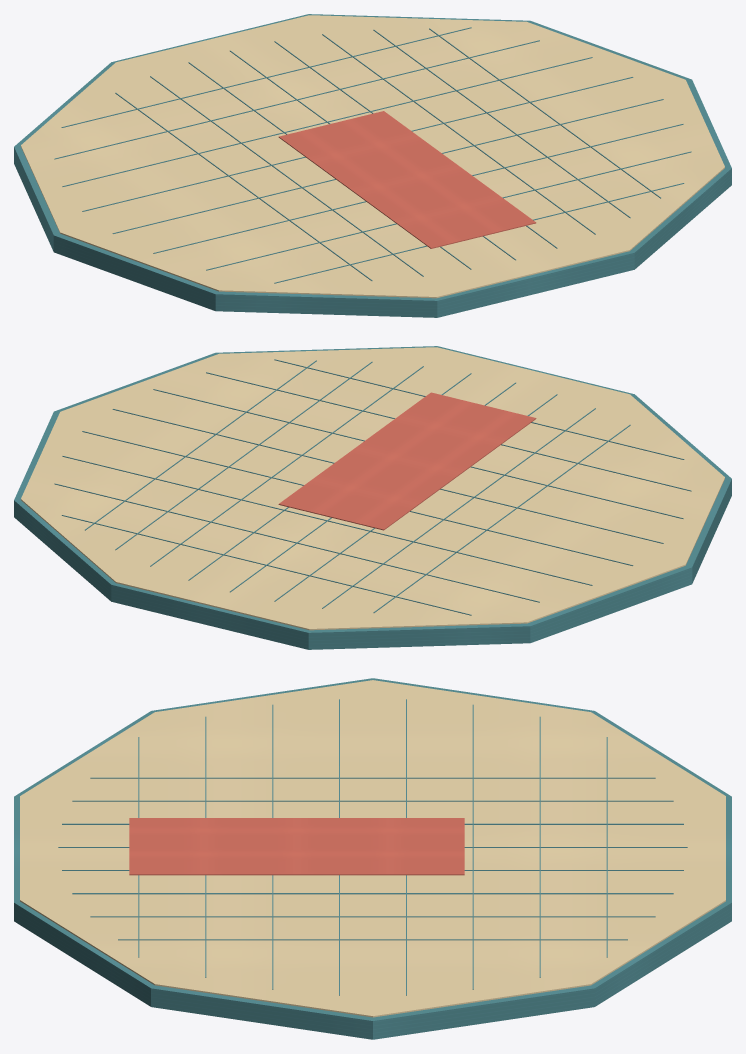
File: atlas100-s073-a07.lod1.glb
3 views of the same model, one above another, from view 1: azimuth 30°, elevation 25°; view 2: azimuth 150°, elevation 25°; view 3: azimuth 270°, elevation 25° (orthographic). The views are drawn at different scales.
Visible parts, largest first — view 1: atlas100-s073-a07:part-001, atlas100-s073-a07:part-000, atlas100-s073-a07:part-021, atlas100-s073-a07:part-015, atlas100-s073-a07:part-014, atlas100-s073-a07:part-017, atlas100-s073-a07:part-016, atlas100-s073-a07:part-018, atlas100-s073-a07:part-013, atlas100-s073-a07:part-019, atlas100-s073-a07:part-009, atlas100-s073-a07:part-005 (+3 smaller); view 2: atlas100-s073-a07:part-001, atlas100-s073-a07:part-000, atlas100-s073-a07:part-021, atlas100-s073-a07:part-015, atlas100-s073-a07:part-014, atlas100-s073-a07:part-017, atlas100-s073-a07:part-016, atlas100-s073-a07:part-018, atlas100-s073-a07:part-013, atlas100-s073-a07:part-019, atlas100-s073-a07:part-009, atlas100-s073-a07:part-005 (+3 smaller); view 3: atlas100-s073-a07:part-001, atlas100-s073-a07:part-000, atlas100-s073-a07:part-021, atlas100-s073-a07:part-005, atlas100-s073-a07:part-009, atlas100-s073-a07:part-004, atlas100-s073-a07:part-010, atlas100-s073-a07:part-011.
Part boxes in pixels (x1,y1,x2,y2): atlas100-s073-a07:part-001: [21, 15, 724, 298]; atlas100-s073-a07:part-000: [14, 14, 731, 317]; atlas100-s073-a07:part-021: [278, 111, 536, 248]; atlas100-s073-a07:part-015: [62, 57, 592, 186]; atlas100-s073-a07:part-014: [54, 40, 539, 159]; atlas100-s073-a07:part-017: [112, 99, 663, 233]; atlas100-s073-a07:part-016: [82, 77, 633, 211]; atlas100-s073-a07:part-018: [153, 124, 683, 253]; atlas100-s073-a07:part-013: [61, 27, 471, 127]; atlas100-s073-a07:part-019: [206, 151, 691, 270]; atlas100-s073-a07:part-009: [322, 34, 595, 234]; atlas100-s073-a07:part-005: [150, 76, 423, 276]; atlas100-s073-a07:part-001: [21, 347, 724, 630]; atlas100-s073-a07:part-000: [14, 346, 731, 649]; atlas100-s073-a07:part-021: [278, 392, 536, 530]; atlas100-s073-a07:part-015: [62, 456, 592, 585]; atlas100-s073-a07:part-014: [54, 483, 539, 602]; atlas100-s073-a07:part-017: [112, 409, 663, 543]; atlas100-s073-a07:part-016: [82, 431, 633, 565]; atlas100-s073-a07:part-018: [153, 389, 683, 518]; atlas100-s073-a07:part-013: [61, 515, 471, 615]; atlas100-s073-a07:part-019: [206, 372, 691, 491]; atlas100-s073-a07:part-009: [150, 366, 423, 566]; atlas100-s073-a07:part-005: [322, 408, 595, 608]; atlas100-s073-a07:part-001: [20, 680, 725, 1017]; atlas100-s073-a07:part-000: [14, 678, 731, 1039]; atlas100-s073-a07:part-021: [129, 818, 464, 875]; atlas100-s073-a07:part-005: [72, 800, 673, 801]; atlas100-s073-a07:part-009: [72, 893, 673, 894]; atlas100-s073-a07:part-004: [90, 777, 655, 778]; atlas100-s073-a07:part-010: [90, 916, 655, 917]; atlas100-s073-a07:part-011: [118, 939, 627, 940].
Bounding box in the file's own units: 13.35 × 0.404 × 11.81.
Materials: 3 (3 with a texture image).
